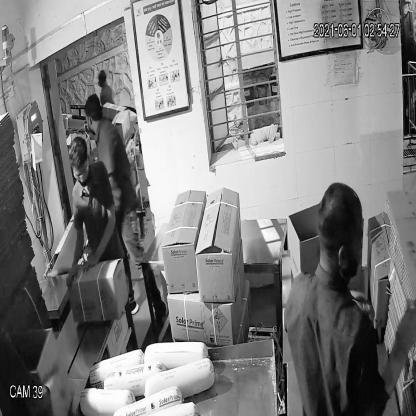goggles: (71, 154, 91, 186)
